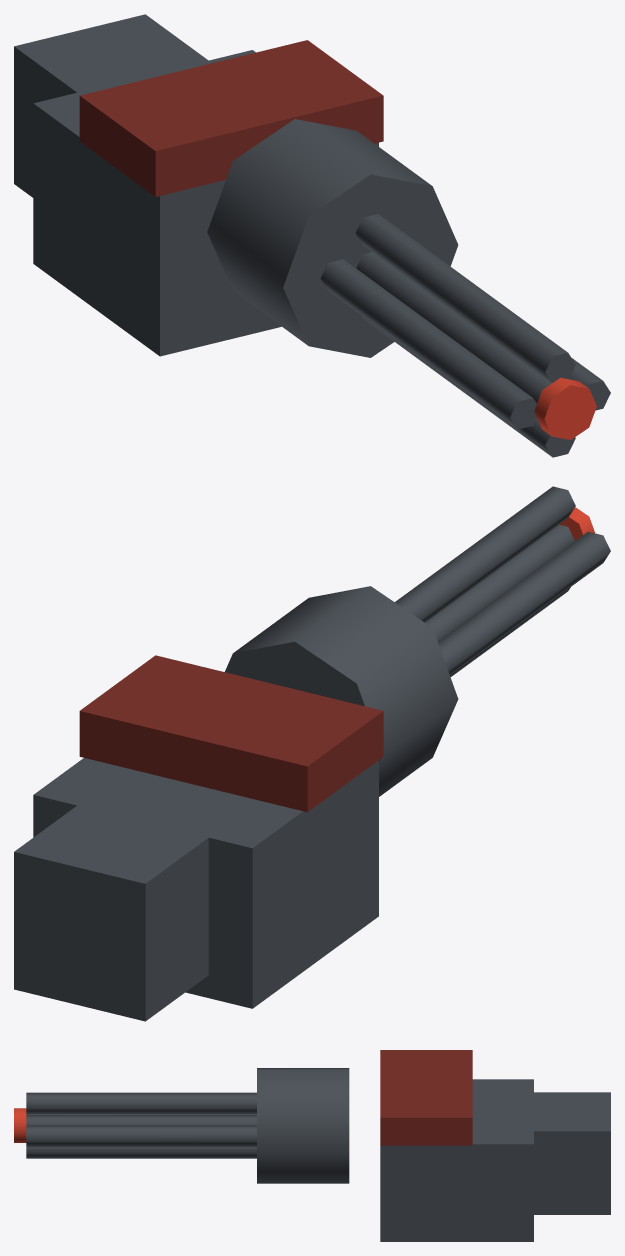
3 renders of one model, top to bottom at view 1: azimuth 30°, elevation 25°; view 2: azimuth 150°, elevation 25°; view 3: azimuth 270°, elevation 25°, orthographic. The views are drawn at different scales.
Visible parts, largest first — view 1: garde_weapon_vertibird_gun; view 2: garde_weapon_vertibird_gun; view 3: garde_weapon_vertibird_gun.
Part boxes in pixels (x1=…): garde_weapon_vertibird_gun: x1=14, y1=14, x2=610, y2=457; garde_weapon_vertibird_gun: x1=14, y1=486, x2=610, y2=1021; garde_weapon_vertibird_gun: x1=14, y1=1050, x2=610, y2=1241.
Size of the model in its own units: 0.52 by 0.5 by 1.94.
